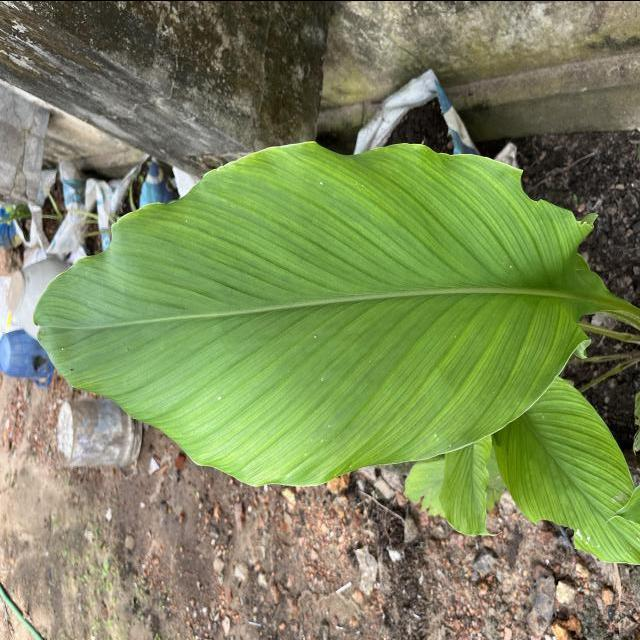Curcuma longa: (31, 137, 604, 488)
